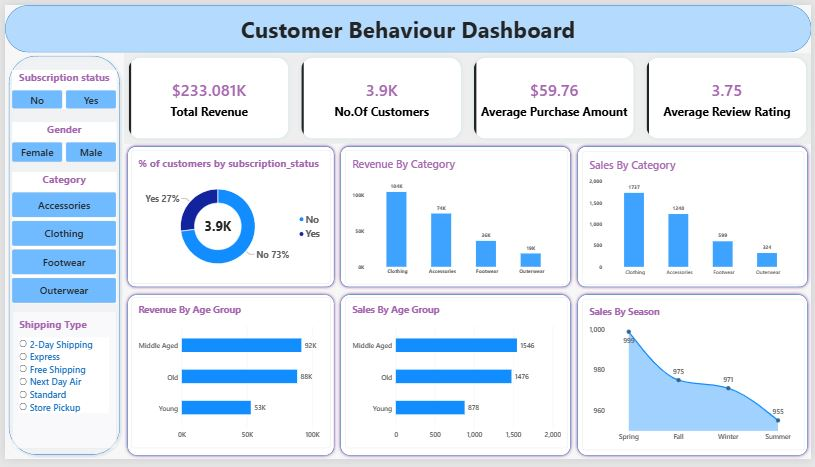

What the dashboard file says about the page in this screenshot:
{"tool":"powerbi","page":{"name":"Page 1","canvas":[1920,1080],"ordinal":0},"visuals":[{"type":"cardVisual","fields":{"Data":["_Measures.Total Revenue","_Measures.No.Of Customers","_Measures.Average Purchase Amount","_Measures.Average Review Rating"]},"box":[282.2,113.3,1637.8,215.6],"z":0},{"type":"shape","box":[0,0,1920,112.9],"z":1000},{"type":"textbox","box":[0,22.1,1920,108],"z":2000},{"type":"shape","box":[282.2,328.9,508.9,351.1],"z":3000},{"type":"donutChart","title":"% of customers by subscription_status","fields":{"Category":["public customer.subscription_status"],"Y":["CountNonNull(public customer.customer_id)"]},"box":[300,344.4,475.6,317.8],"z":4000},{"type":"shape","box":[791.1,328.9,564.4,351.1],"z":5000},{"type":"shape","box":[1355.6,328.9,564.4,351.1],"z":6000},{"type":"clusteredColumnChart","title":"Revenue By Category","fields":{"Category":["public customer.category"],"Y":["Sum(public customer.purchase_amount)"]},"box":[808.9,344.4,531.1,320],"z":7000},{"type":"clusteredColumnChart","title":"Sales By Category","fields":{"Category":["public customer.category"],"Y":["CountNonNull(public customer.customer_id)"]},"box":[1373.3,346.7,528.9,317.8],"z":8000},{"type":"shape","box":[0,112.2,282.9,968.3],"z":10005},{"type":"advancedSlicerVisual","title":"Category","fields":{"Values":["public customer.category"]},"box":[17.8,397.8,248.9,313.3],"z":10006},{"type":"listSlicer","title":"Shipping Type","fields":{"Values":["public customer.shipping_type"]},"box":[17.8,728.9,248.9,326.7],"z":10007},{"type":"shape","box":[282.2,680,508.9,400],"z":10008},{"type":"shape","box":[791.1,680,564.4,400],"z":10009},{"type":"clusteredBarChart","title":"Revenue By Age Group","fields":{"Category":["public customer.age_group"],"Y":["Sum(public customer.purchase_amount)"]},"box":[300,695.6,475.6,360],"z":10010},{"type":"clusteredBarChart","title":"Sales By Age Group","fields":{"Category":["public customer.age_group"],"Y":["CountNonNull(public customer.customer_id)"]},"box":[808.9,695.6,531.1,360],"z":10011},{"type":"shape","box":[1355.6,680,564.4,400],"z":10012},{"type":"areaChart","title":"Sales By Season","fields":{"Category":["public customer.season"],"Y":["CountNonNull(public customer.customer_id)"]},"box":[1373.3,700,531.1,360],"z":10013},{"type":"advancedSlicerVisual","title":"Subscription status","fields":{"Values":["public customer.subscription_status"]},"box":[17.1,153.7,248.8,92.7],"z":10014},{"type":"advancedSlicerVisual","title":"Gender","fields":{"Values":["public customer.gender"]},"box":[17.1,278,248.8,95.1],"z":10015}]}

Visuals, with their boxes in screenshot pixels (x1, y1, x2, y2), scaled from the page's 1920x1080 canvas onto the 815x467 screenshot:
cardVisual - _Measures.Total Revenue x _Measures.No.Of Customers: (120,49,814,142)
shape: (0,0,814,49)
textbox: (0,10,814,56)
shape: (120,142,336,294)
"% of customers by subscription_status" donutChart: (127,149,329,286)
shape: (336,142,575,294)
shape: (575,142,814,294)
"Revenue By Category" clusteredColumnChart: (343,149,569,287)
"Sales By Category" clusteredColumnChart: (583,150,807,287)
shape: (0,49,120,466)
"Category" advancedSlicerVisual: (8,172,113,307)
"Shipping Type" listSlicer: (8,315,113,456)
shape: (120,294,336,466)
shape: (336,294,575,466)
"Revenue By Age Group" clusteredBarChart: (127,301,329,456)
"Sales By Age Group" clusteredBarChart: (343,301,569,456)
shape: (575,294,814,466)
"Sales By Season" areaChart: (583,303,808,458)
"Subscription status" advancedSlicerVisual: (7,66,113,107)
"Gender" advancedSlicerVisual: (7,120,113,161)
